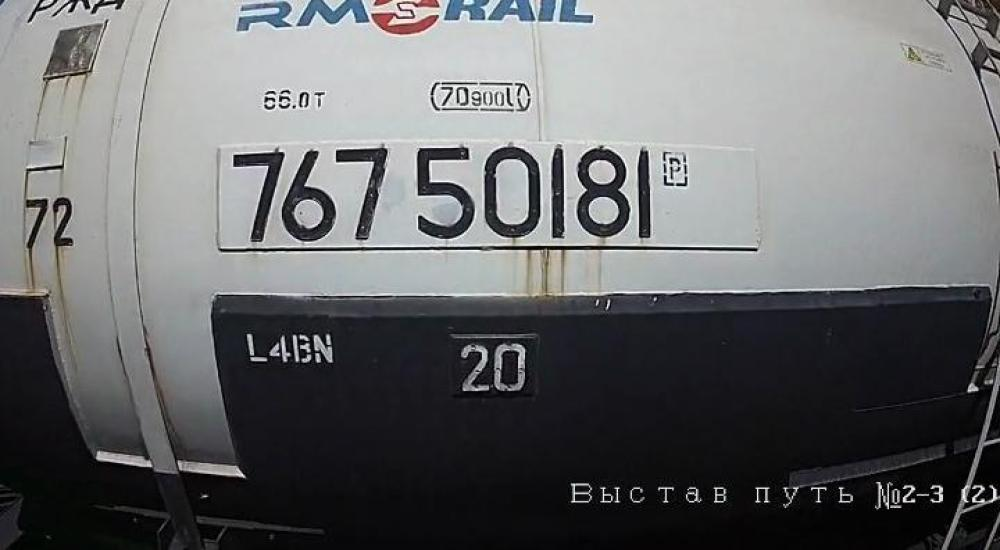Wagon-number: (229, 141, 658, 243)
